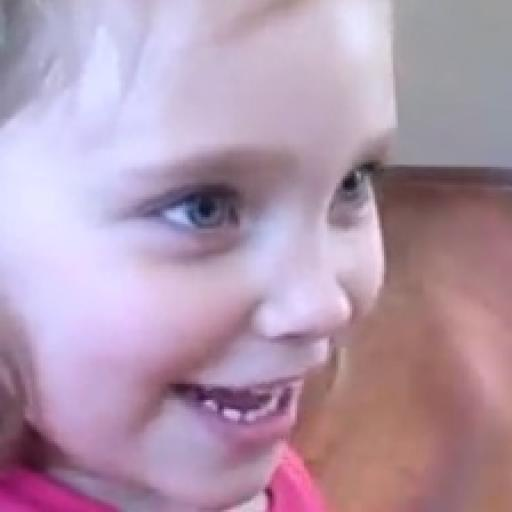Autism: (10, 0, 390, 512)
